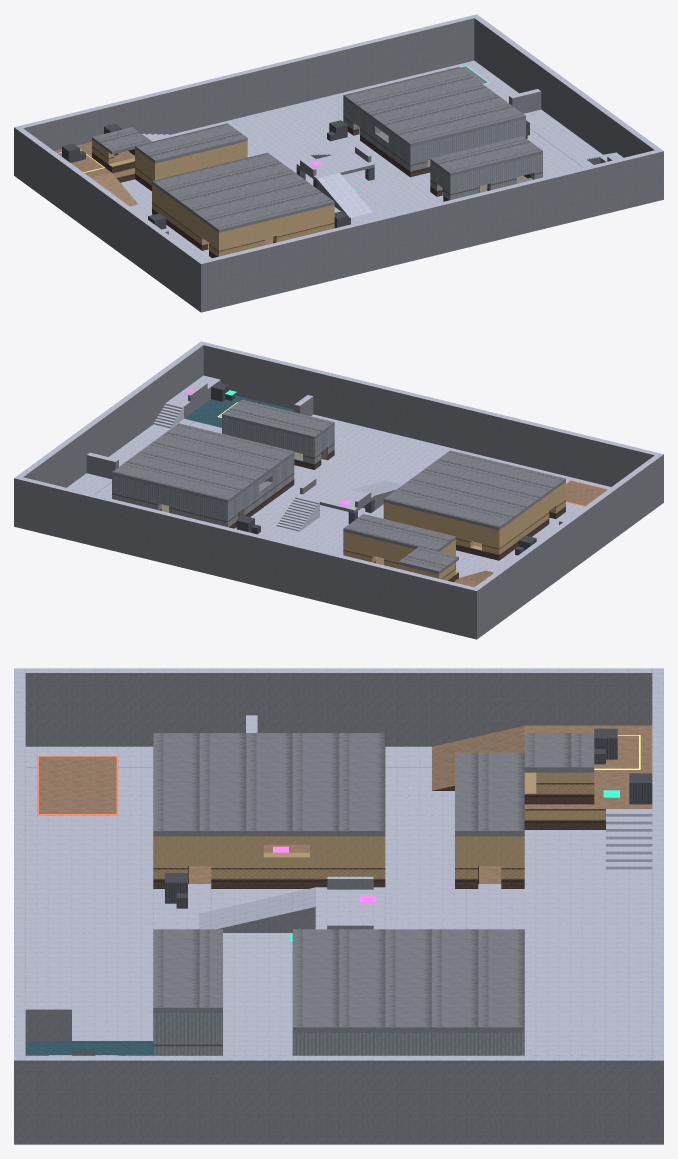
The model's file is arena_liminal.glb.
3 renders of one model, top to bottom at view 1: azimuth 30°, elevation 25°; view 2: azimuth 150°, elevation 25°; view 3: azimuth 270°, elevation 25°, orthographic. The views are drawn at different scales.
Parts seen in each view (by area): view 1: wall_s, wall_n, ground, wall_w, roof_store, roof_workshop, wall_e, roof_se, roof_nw, store_spawn_side_2, store_lane_end_2, deck_ramp (+13 smaller); view 2: wall_n, wall_s, ground, wall_w, roof_workshop, roof_store, wall_e, roof_se, roof_nw, workshop_spawn_side_0, store_lane_end_2, workshop_spawn_side_2 (+14 smaller); view 3: ground, wall_e, wall_w, roof_workshop, roof_store, roof_nw, roof_se, wall_n, wall_s, plateau, spawn_attack, workshop_lane_end_0 (+16 smaller).
Boxes of the visible parts, x1,y1,x2,y2 form: wall_s: [197, 149, 663, 306]; wall_n: [14, 14, 479, 171]; ground: [14, 60, 663, 312]; wall_w: [17, 128, 202, 303]; roof_store: [152, 152, 334, 232]; roof_workshop: [343, 67, 525, 146]; wall_e: [474, 17, 660, 157]; roof_se: [430, 136, 542, 176]; roof_nw: [135, 123, 247, 163]; store_spawn_side_2: [273, 204, 334, 243]; store_lane_end_2: [155, 186, 207, 250]; deck_ramp: [316, 173, 372, 217]; wall_n: [14, 476, 480, 633]; wall_s: [198, 341, 663, 498]; ground: [14, 395, 663, 639]; wall_w: [475, 455, 660, 630]; roof_workshop: [112, 423, 294, 503]; roof_store: [383, 450, 565, 530]; wall_e: [17, 344, 203, 487]; roof_se: [222, 399, 334, 439]; roof_nw: [343, 514, 455, 551]; workshop_spawn_side_0: [169, 489, 230, 527]; store_lane_end_2: [502, 494, 549, 557]; workshop_spawn_side_2: [112, 475, 161, 510]; ground: [14, 746, 663, 1144]; wall_e: [25, 1055, 652, 1134]; wall_w: [25, 668, 652, 746]; roof_workshop: [292, 929, 524, 1032]; roof_store: [153, 733, 385, 836]; roof_nw: [455, 752, 524, 836]; roof_se: [153, 929, 222, 1012]; wall_n: [652, 668, 663, 1134]; wall_s: [14, 668, 25, 1134]; plateau: [524, 725, 652, 829]; spawn_attack: [37, 756, 118, 815]; workshop_lane_end_0: [304, 1032, 466, 1055].
Size of the model in its own units: 80 by 8 by 56.
Materials: 29 (23 with a texture image).
